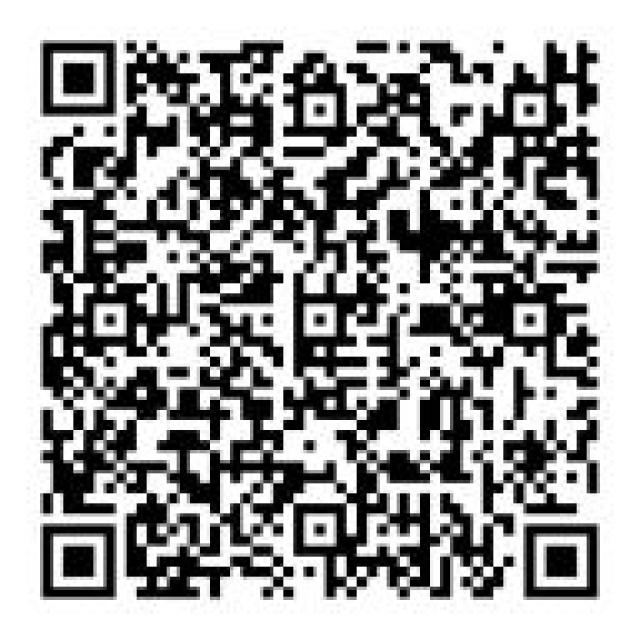QR_CODE: (30, 28, 610, 607)
